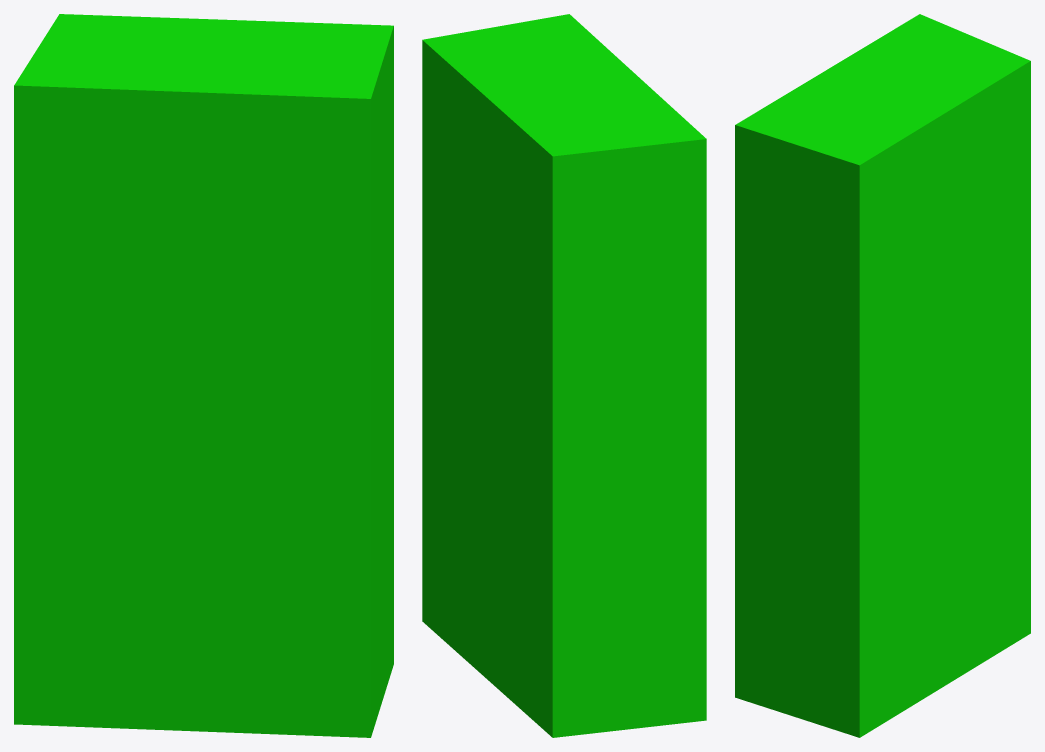
3 views of the same model, side by side, from view 1: azimuth 30°, elevation 25°; view 2: azimuth 150°, elevation 25°; view 3: azimuth 270°, elevation 25° (orthographic). The views are drawn at different scales.
Visible parts, largest first — view 1: Circle.044; view 2: Circle.044; view 3: Circle.044.
Part boxes in pixels (x1,y1,x2,y2): Circle.044: [14, 14, 393, 737]; Circle.044: [422, 14, 706, 737]; Circle.044: [735, 14, 1030, 737].
Size of the model in its own units: 1159 by 2044 by 957.
